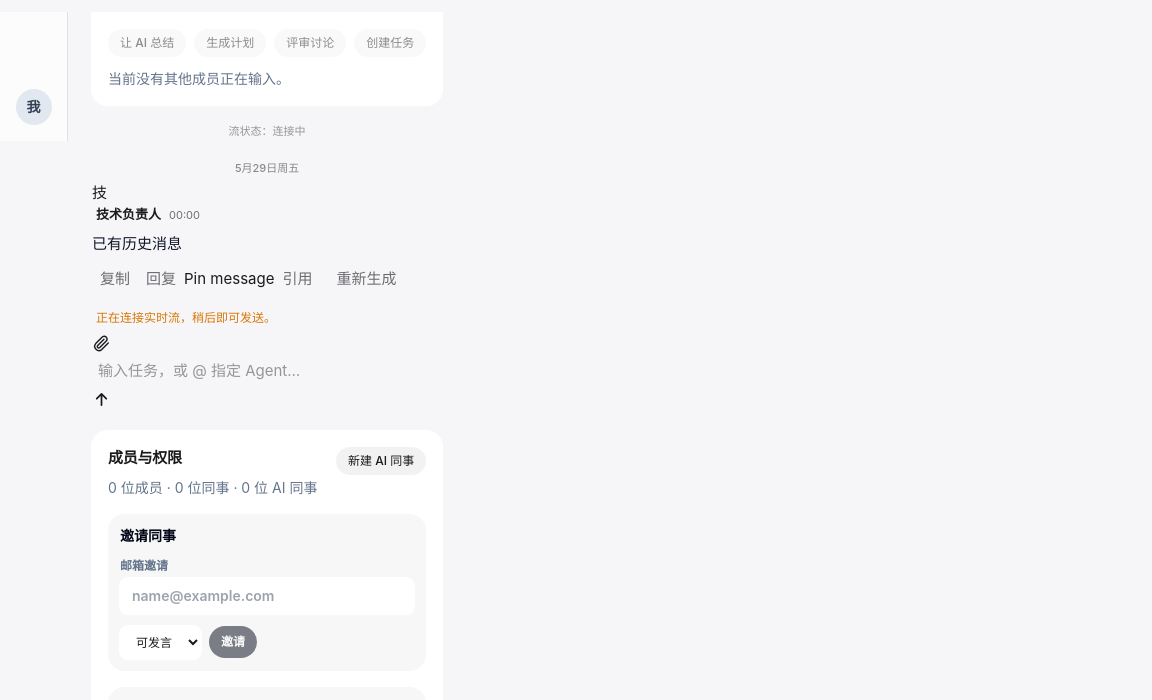
Test: ChannelShell › routes to the independent visual workflow workbench from a natural-language workflow request
(page scrolled)
Expected: the text "已有历史消息" is shown, [92, 234, 182, 253]
Type "对话触发 Workflow 验收：请创建一个新的编码 workflow。目标：做一个电影网页。请先由技术负责人拆解计划并等待我批准。" into the text box named "消息内容".
click(267, 372); type("对话触发 Workflow 验收：请创建一个新的编码 workflow。目标：做一个电影网页。请先由技术负责人拆解计划并等待我批准。")  # box [92, 353, 442, 390]
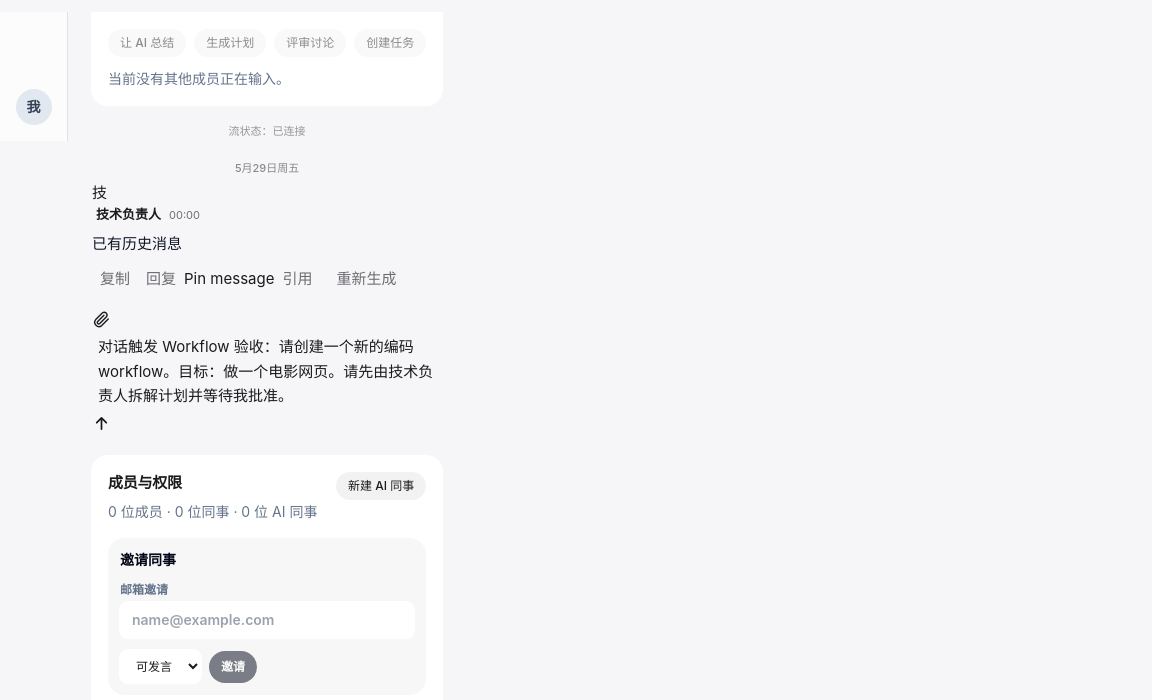
Expected: the button named "发送消息" is enabled
Click the button named "发送消息".
click(102, 424)  # box [92, 414, 111, 433]
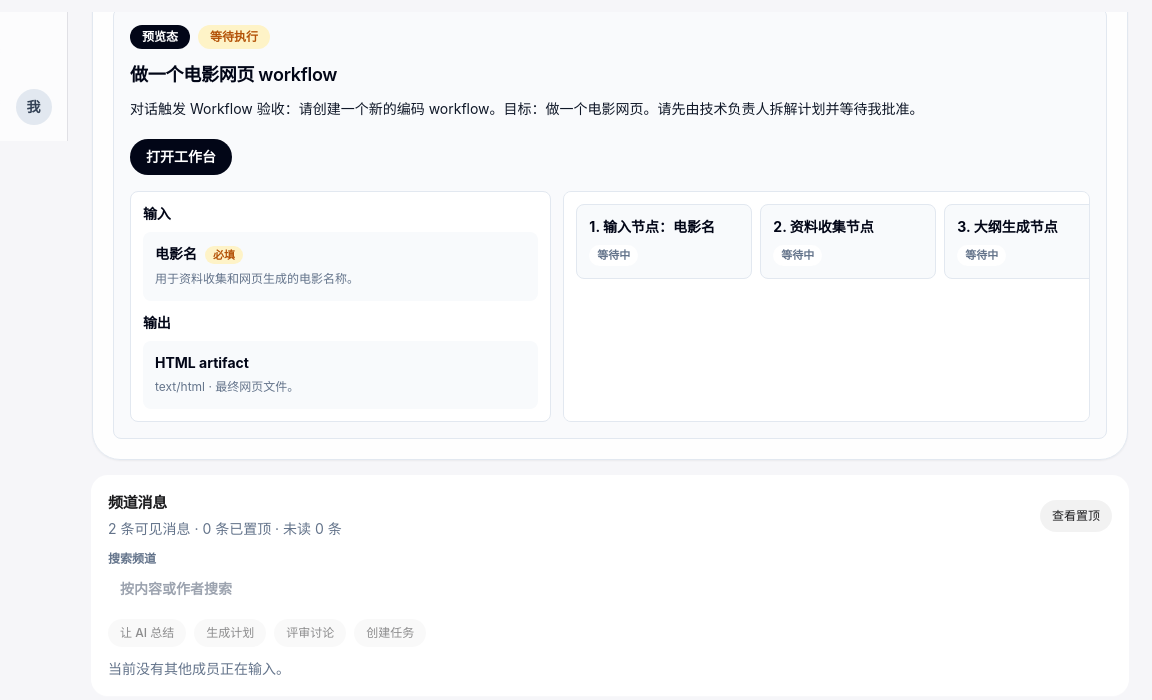
Expected: the text "1. 输入节点：电影名" is shown, [589, 218, 715, 236]
Expected: the text "2. 资料收集节点" is shown, [773, 218, 874, 236]
Expected: the text "3. 大纲生成节点" is shown, [957, 218, 1058, 236]
